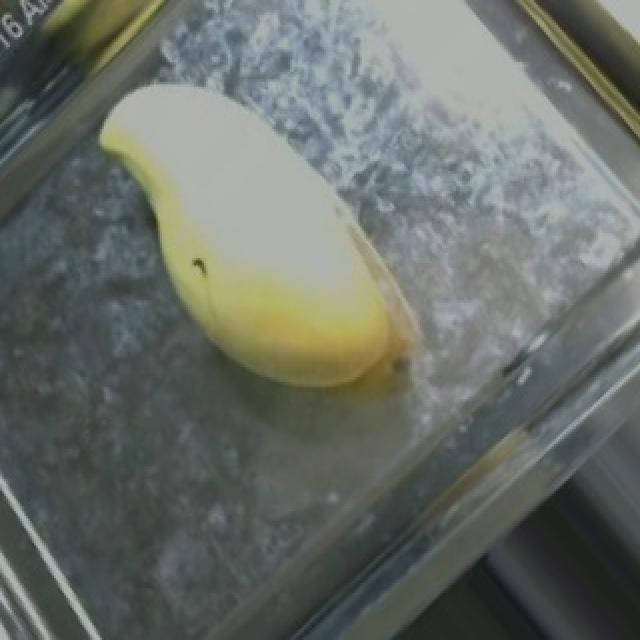fruit: (130, 139, 474, 454)
